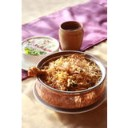briyani: (29, 56, 101, 89)
